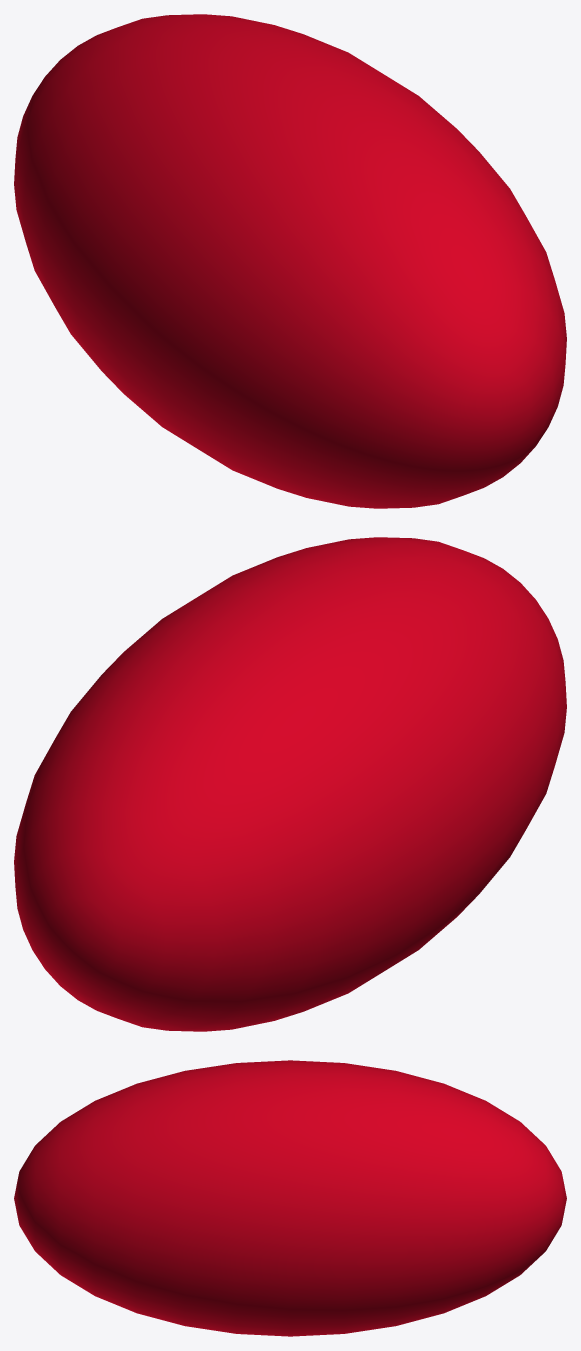
File: Space_Fighter.fbx
3 renders of one model, top to bottom at view 1: azimuth 30°, elevation 25°; view 2: azimuth 150°, elevation 25°; view 3: azimuth 270°, elevation 25°, orthographic. The views are drawn at different scales.
Visible parts, largest first — view 1: Fighter; view 2: Fighter; view 3: Fighter.
Part boxes in pixels (bbox=[...]): Fighter: bbox=[14, 14, 566, 508]; Fighter: bbox=[14, 537, 566, 1031]; Fighter: bbox=[14, 1060, 566, 1336].
Size of the model in its own units: 2 by 2 by 4.
